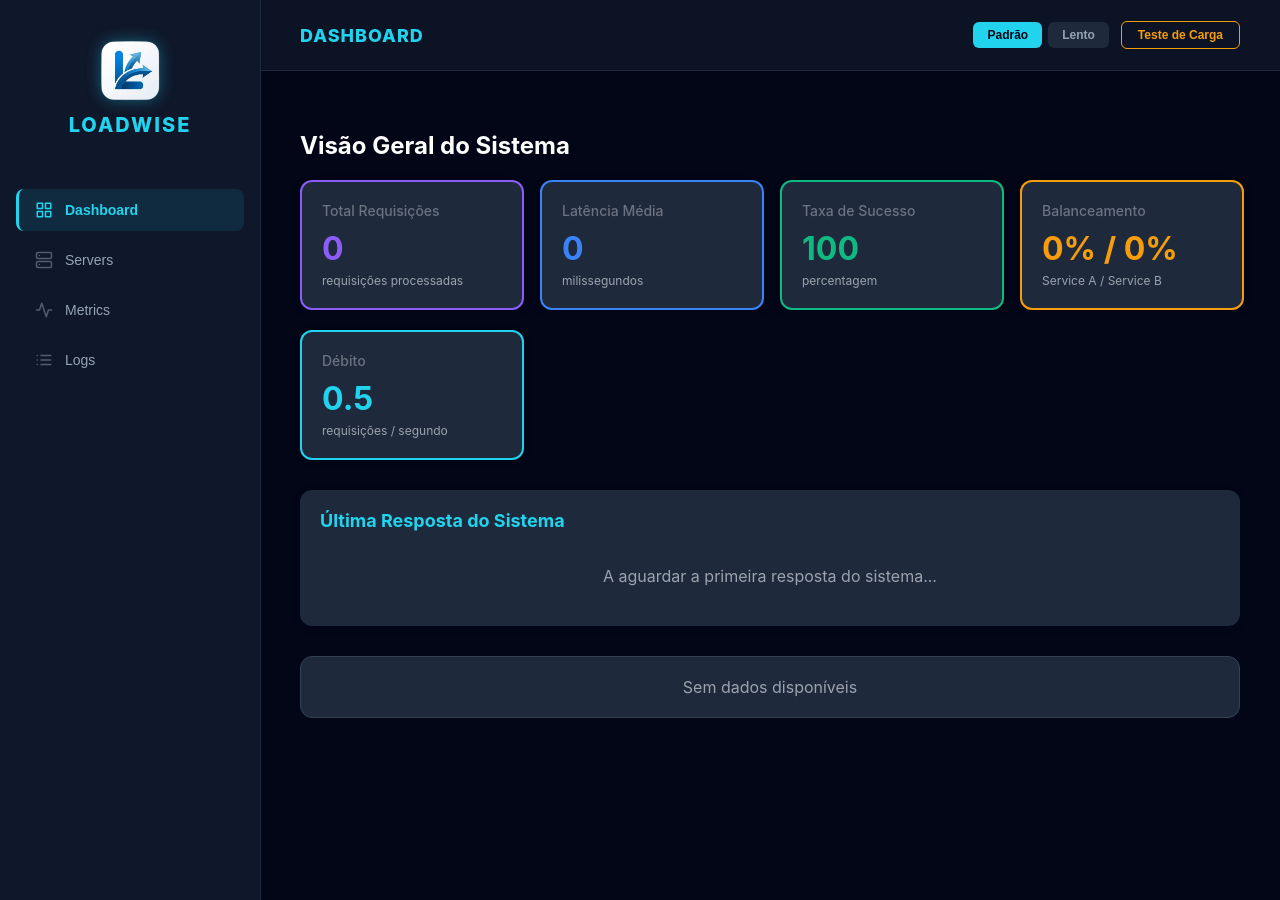
navigates to Metrics page on click
The width and height of the screenshot is (1280, 900).
Click the button "Metrics" at [130, 310], box [16,288,244,330]
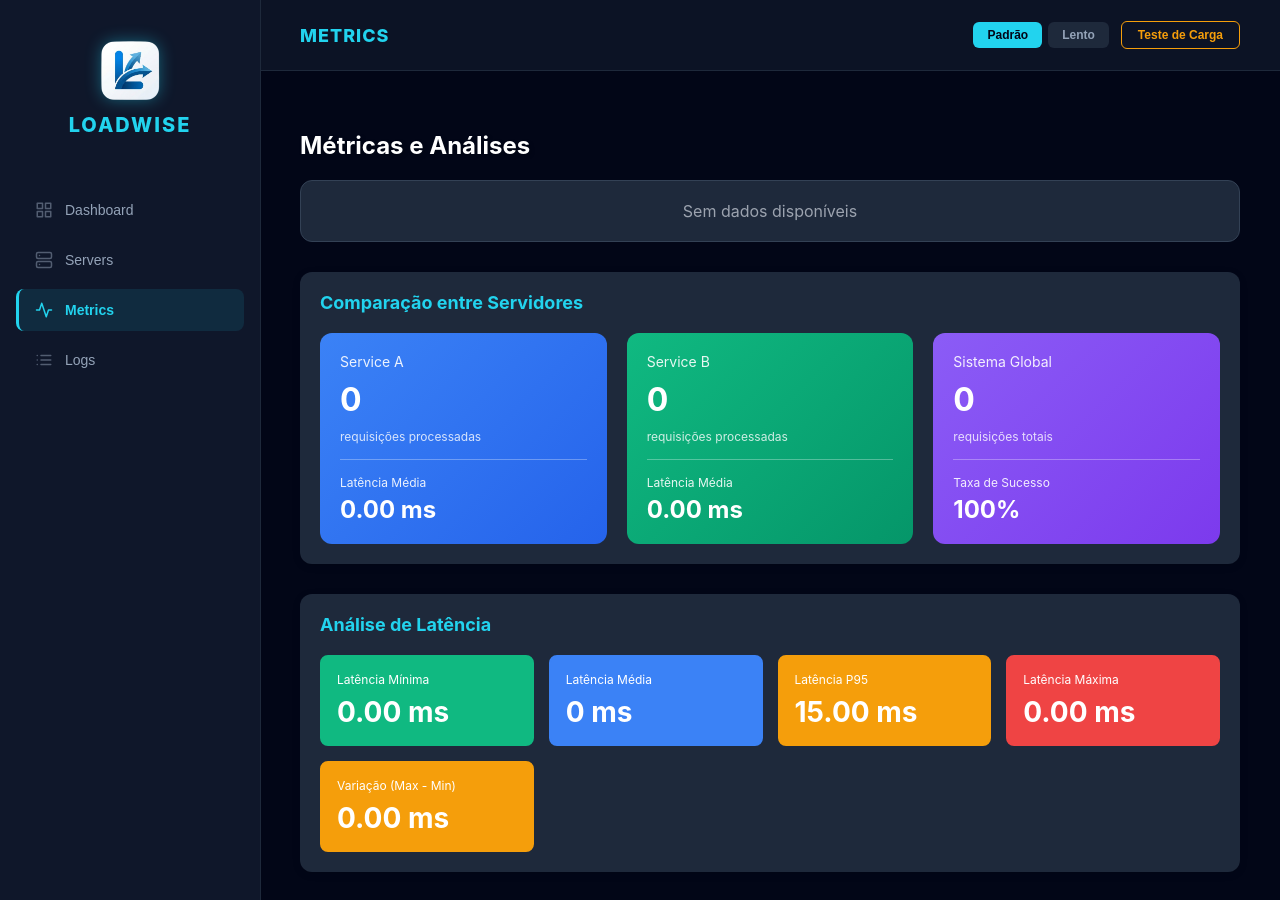
Check: the heading "Métricas e Análises" is shown, box [300,131,530,160]
